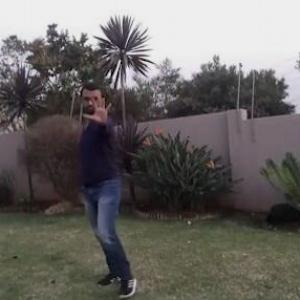follow_hand: (82, 92, 115, 124)
